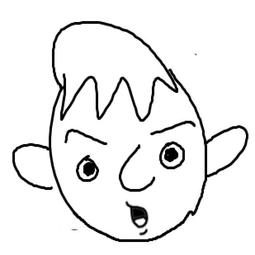ear: (202, 122, 251, 178), (9, 135, 55, 193)
eye: (67, 154, 102, 185), (158, 138, 187, 175)
eyebrow: (149, 120, 197, 137)
frowning_eyebrow: (62, 125, 109, 147)
large_nose: (115, 137, 158, 197)
open_mouth: (127, 206, 155, 228)
